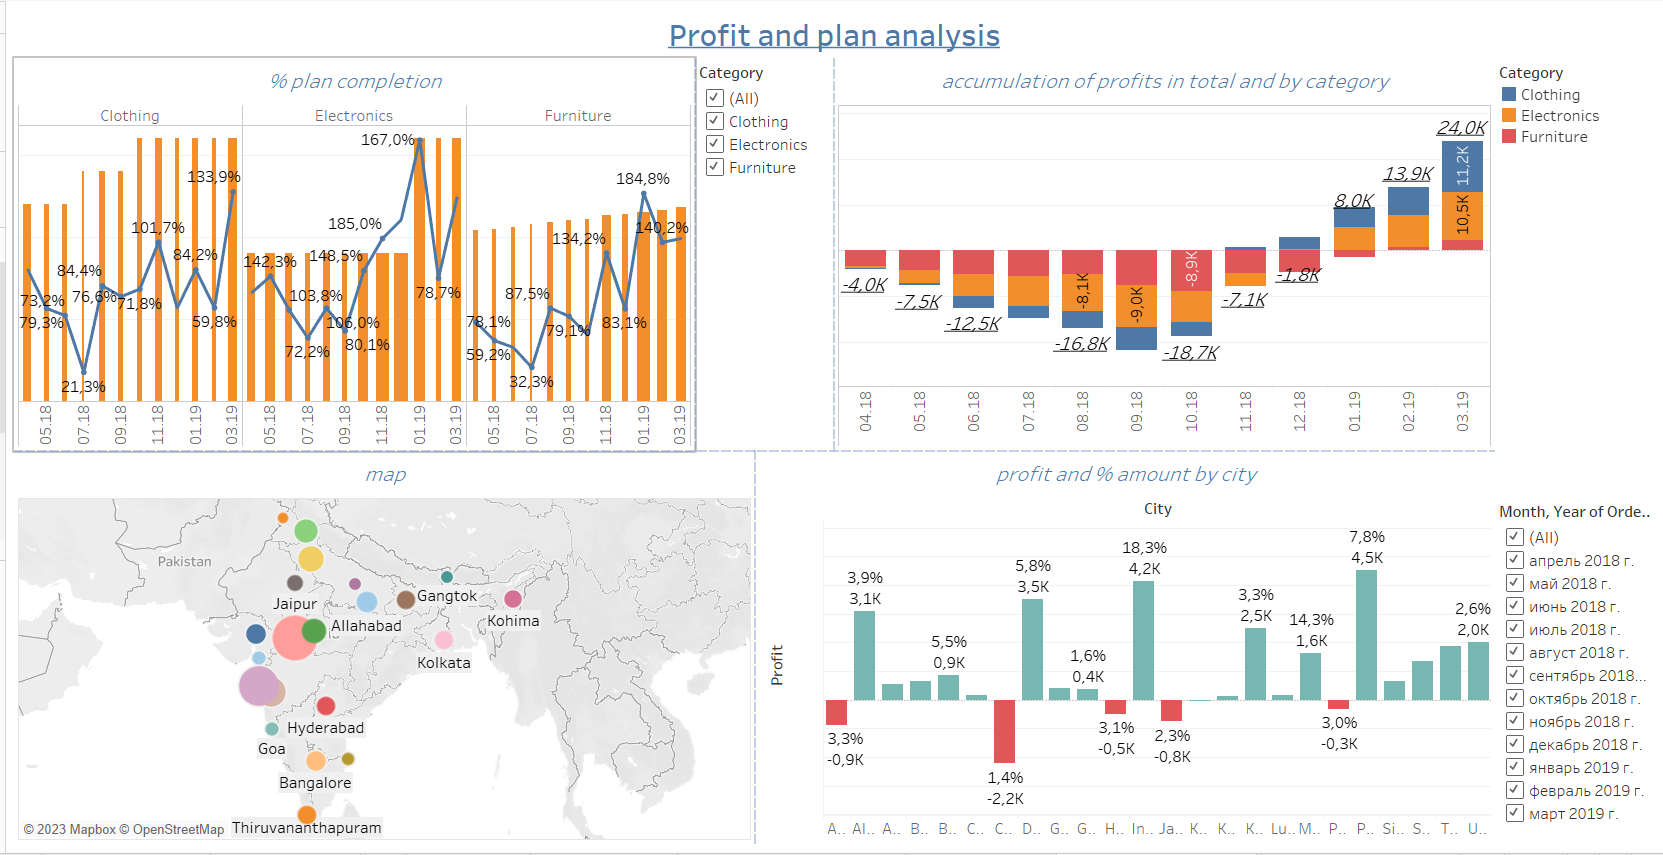

What the dashboard file says about the page in this screenshot:
{"tool":"tableau","page":{"name":"Profit and plan analysis","canvas":[1000,1000],"units":"permille","ordinal":1},"visuals":[{"type":"title","box":[4.8,9.4,990.3,57.6]},{"type":"worksheet","title":"% plan completion","mark":"Bar","rows":["Target","Amount"],"cols":["Category","Order Date"],"box":[4.8,67,411,461.8]},{"type":"filter","title":"% plan completion","param":"[federated.0ek4ghn13xhm711bbmwtt0xa92cz].[none:Category:nk]","box":[415.8,67,83.9,461.8]},{"type":"worksheet","title":"accumulation of profits in total and by category","mark":"Bar","cols":["Order Date"],"box":[499.7,67,398.9,461.8]},{"type":"legend","title":"accumulation of profits in total and by category","param":"[federated.0ek4ghn13xhm711bbmwtt0xa92cz].[none:Category:nk]","box":[898.6,67,96.6,515.9]},{"type":"worksheet","title":"map","mark":"Automatic","box":[4.8,528.8,446.9,461.8]},{"type":"worksheet","title":"profit and % amount by city","mark":"Automatic","rows":["Profit"],"cols":["City"],"box":[451.7,528.8,446.9,461.8]},{"type":"filter","title":"profit and % amount by city","param":"[federated.0ek4ghn13xhm711bbmwtt0xa92cz].[my:Order Date:ok]","box":[898.6,582.8,96.6,393.7]}]}

Visuals, with their boxes on the dashboard's canvas, which has no fixed pixel size, in thousandths of its width and height (x1, y1, x2, y2). These are canvas units, not pixel positions in the 1663x855 screenshot, which may show the page scaled, cropped or inside an application window:
title: (5,9,995,67)
"% plan completion" worksheet (Bar marks): (5,67,416,529)
"% plan completion" filter: (416,67,500,529)
"accumulation of profits in total and by category" worksheet (Bar marks): (500,67,899,529)
"accumulation of profits in total and by category" legend: (899,67,995,583)
"map" worksheet: (5,529,452,991)
"profit and % amount by city" worksheet: (452,529,899,991)
"profit and % amount by city" filter: (899,583,995,976)
